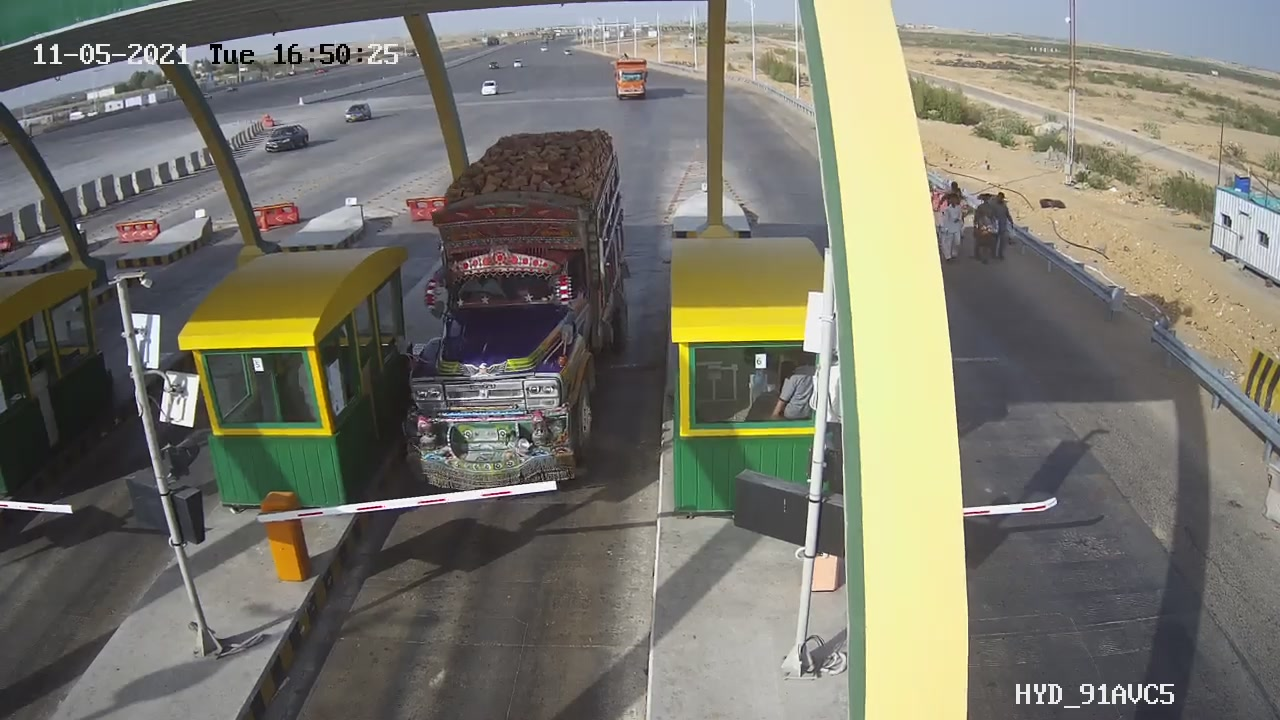F5: (381, 115, 652, 520)
